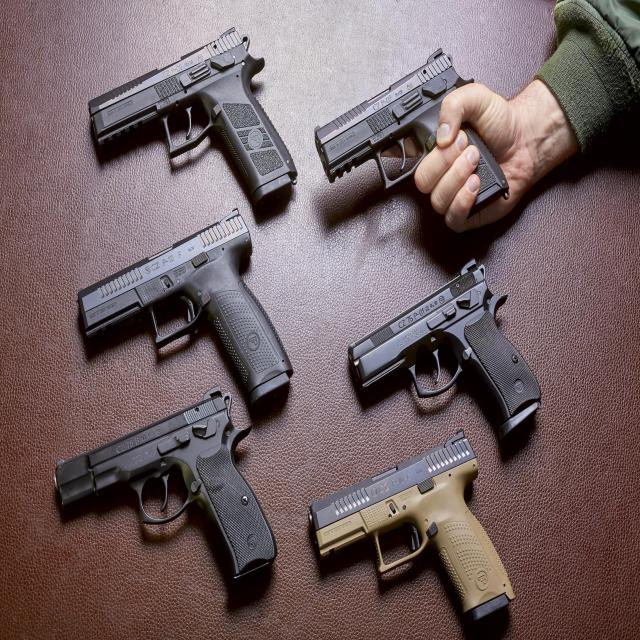gun: (77, 211, 293, 423), (54, 387, 277, 583), (309, 432, 515, 635), (88, 28, 297, 222), (347, 259, 542, 447), (314, 49, 474, 190), (460, 122, 509, 209)
